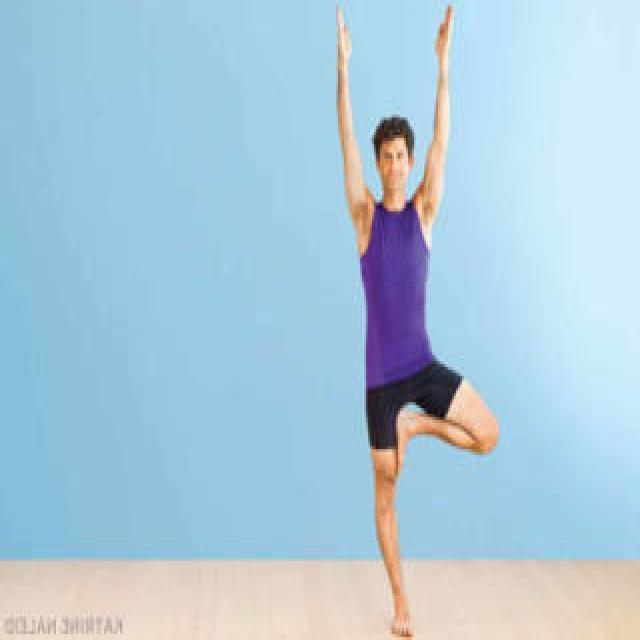yoga-pose tree: (336, 4, 500, 631)
